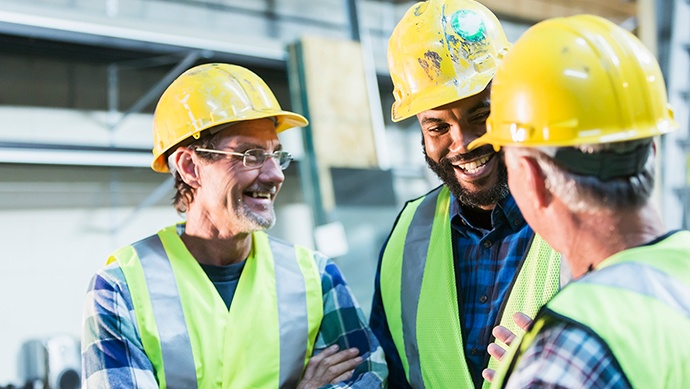helmet: (487, 21, 667, 144), (137, 64, 311, 158), (389, 7, 503, 115)
person with full safety: (88, 67, 384, 389), (488, 17, 689, 389), (382, 6, 545, 388)
safety vest: (117, 219, 321, 389), (391, 187, 556, 388), (538, 244, 690, 387)
